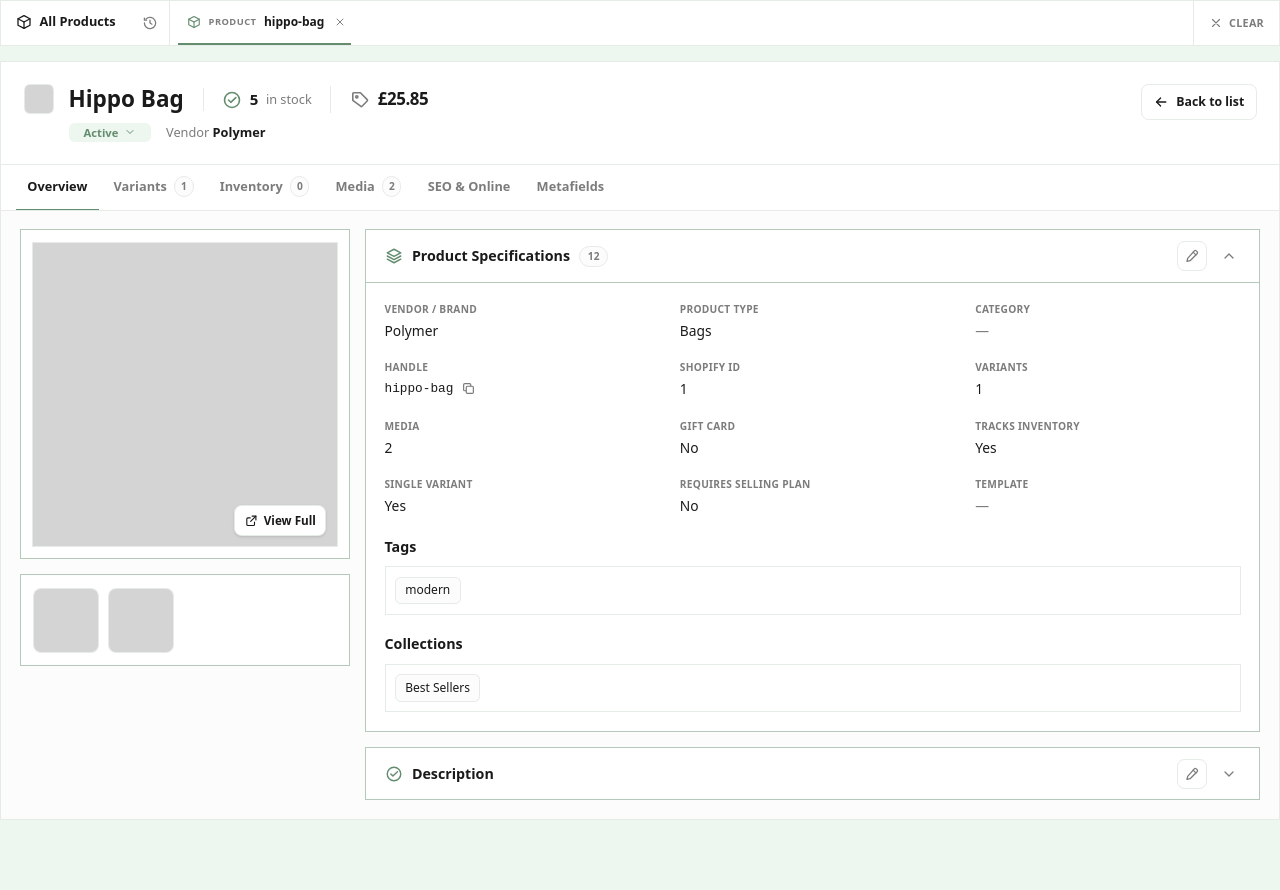
editing a product › sending to the store › shows that the edit is on its way, and then that it arrived
The image size is (1280, 890).
Expected: the heading "Hippo Bag" is shown, [68, 84, 184, 115]
Click the button named "Edit specifications". click: (1192, 256)
box: [1177, 241, 1207, 271]
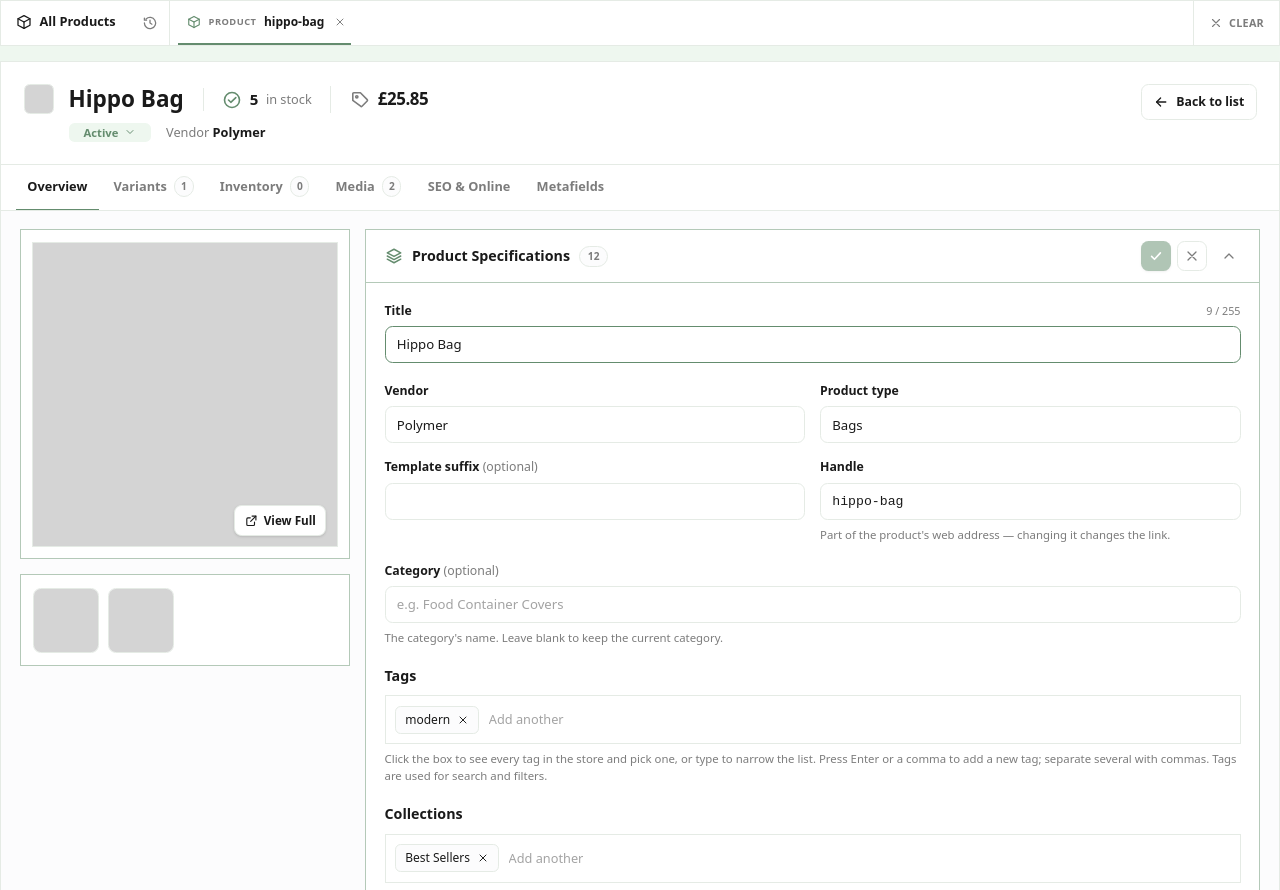
Type " Ltd" into the field labelled "Vendor". click: (595, 425)
box: [384, 406, 805, 444]
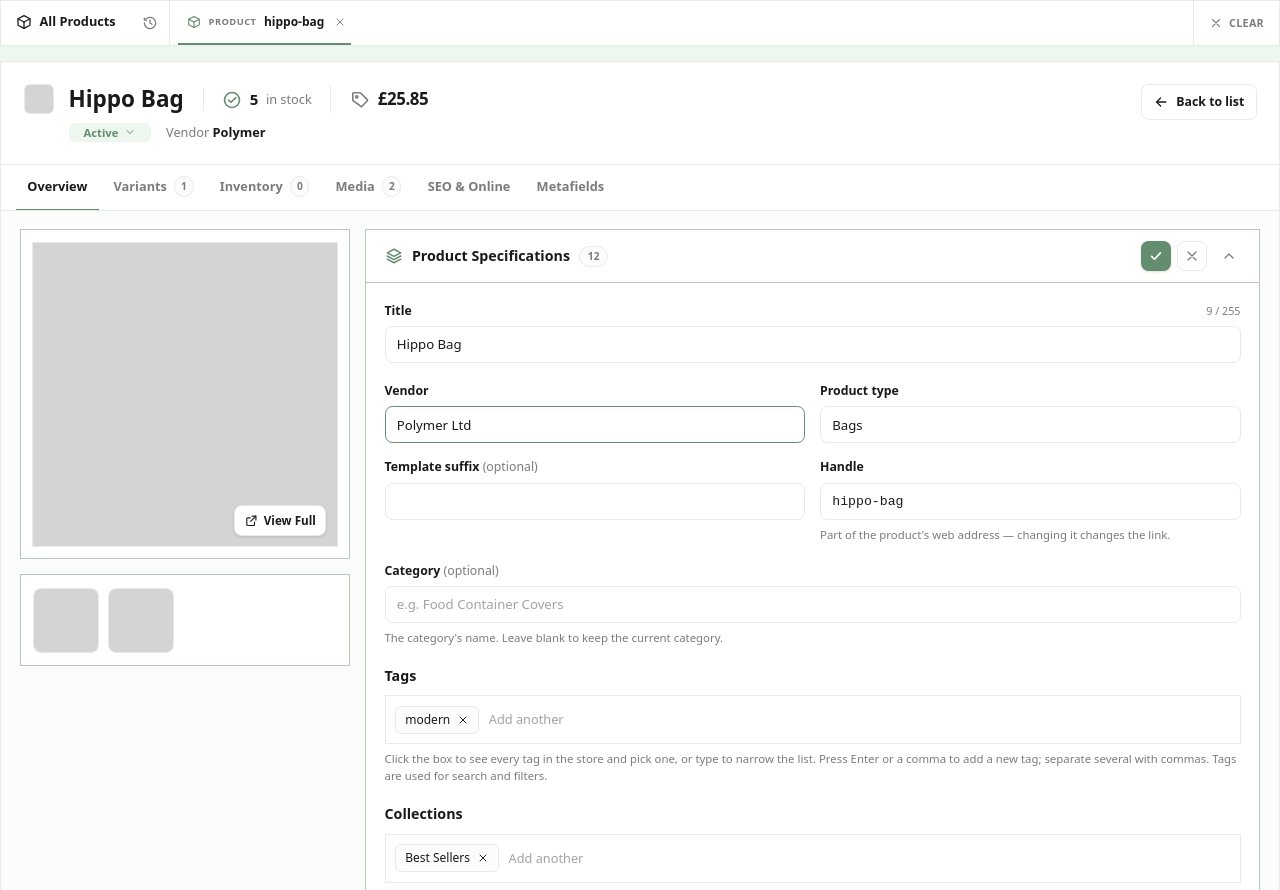
Click the button named "Save specifications". click: (1156, 256)
box: [1141, 241, 1171, 271]
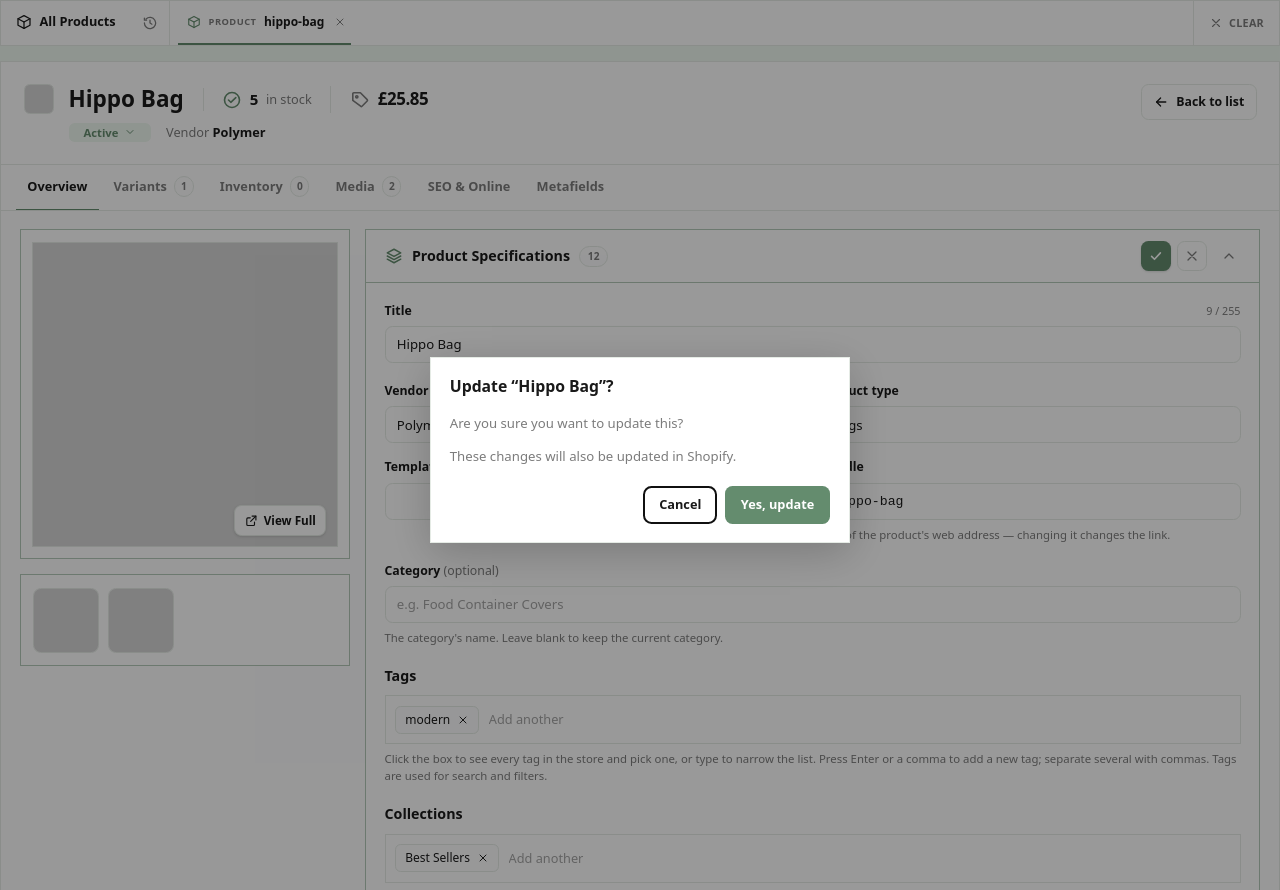
Click the button "Yes, update". click: (778, 505)
box: [725, 486, 830, 524]
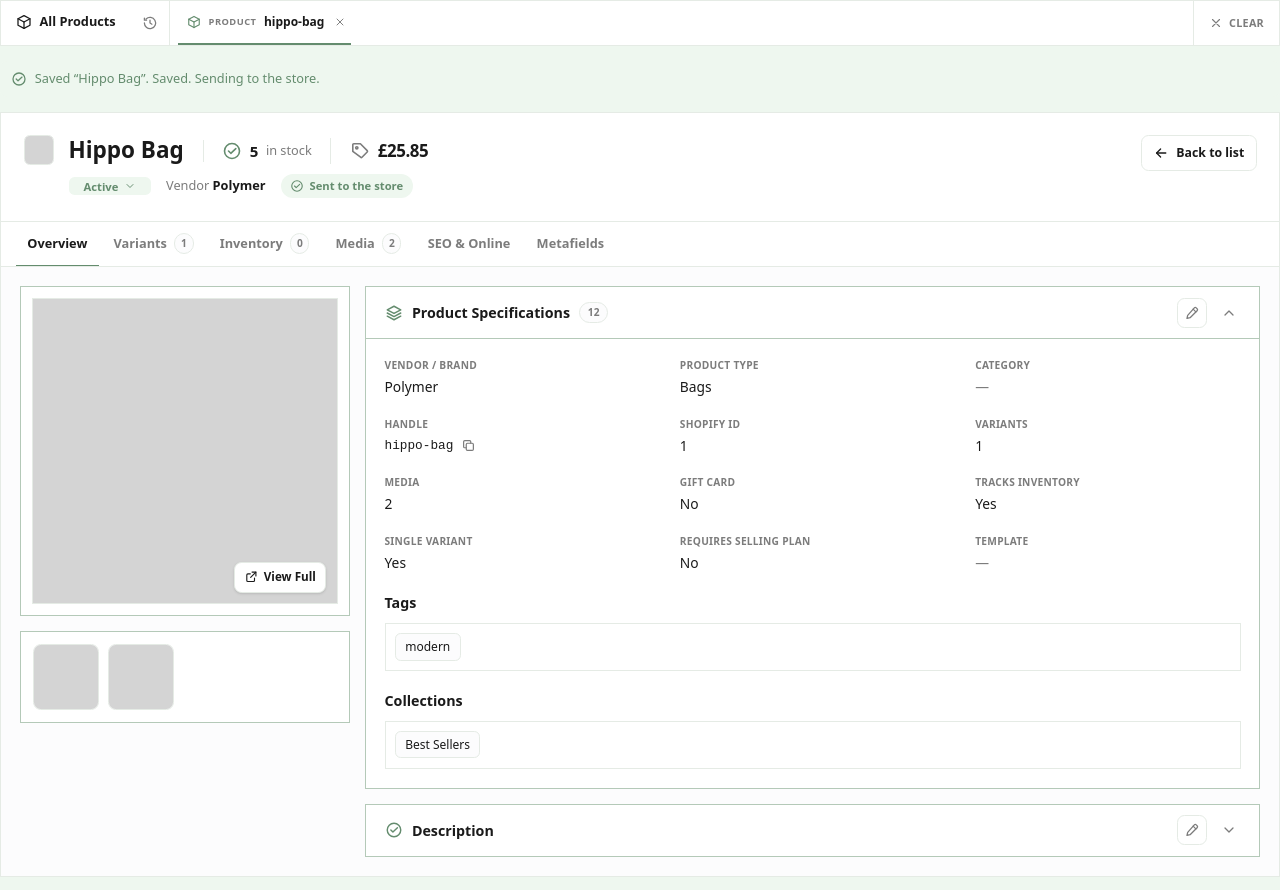
Now the text "Sent to the store" is shown, box [280, 174, 412, 198]
